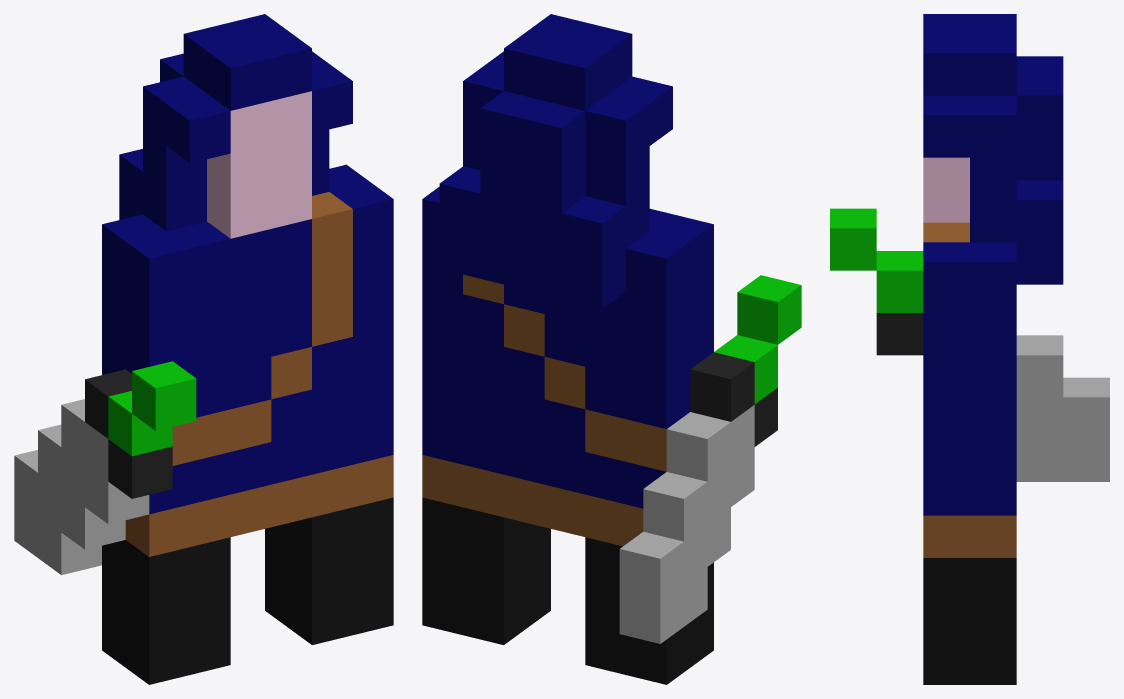
The model's file is Character.obj.
3 views of the same model, side by side, from view 1: azimuth 30°, elevation 25°; view 2: azimuth 150°, elevation 25°; view 3: azimuth 270°, elevation 25° (orthographic).
Parts seen in each view (by area): view 1: Character; view 2: Character; view 3: Character.
Part boxes in pixels (<box>): Character: <box>14,14,393,684</box>; Character: <box>422,14,801,684</box>; Character: <box>830,14,1109,684</box>.
Bounding box in the file's own units: 7 × 14 × 6.
Materials: 1 (1 with a texture image).
